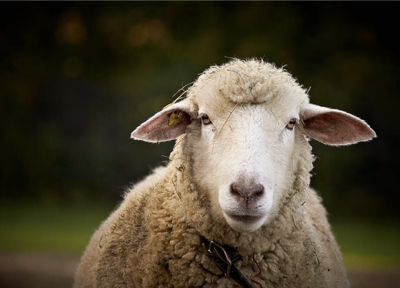koyun: (88, 57, 377, 288)
